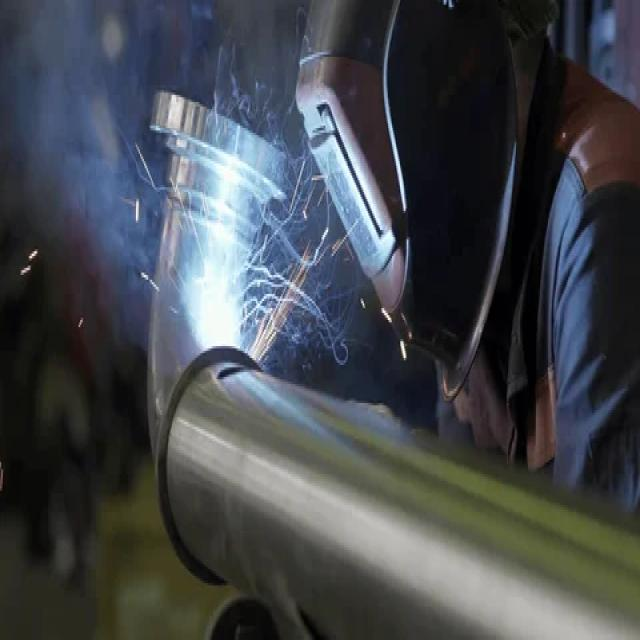welding: (193, 262, 248, 354)
